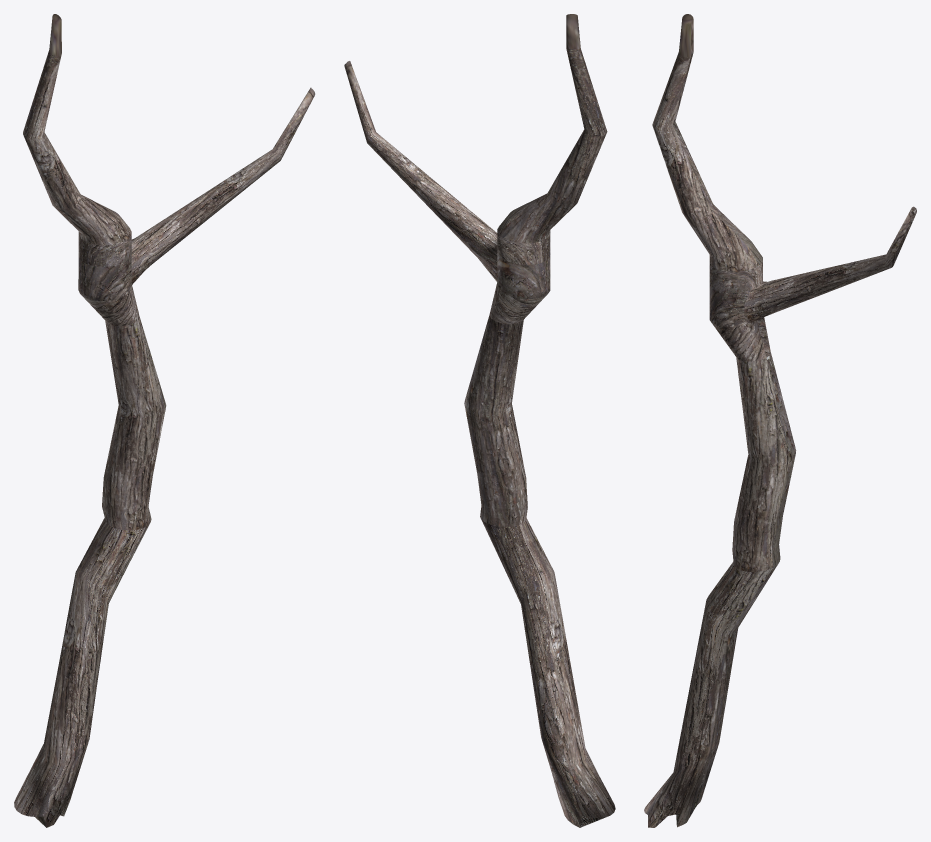
File: Stick.fbx
3 renders of one model, left to right at view 1: azimuth 30°, elevation 25°; view 2: azimuth 150°, elevation 25°; view 3: azimuth 330°, elevation 25°, orthographic.
Visible parts, largest first — view 1: Cylinder; view 2: Cylinder; view 3: Cylinder.
Boxes of the visible parts, x1,y1,x2,y2 form: Cylinder: [14, 14, 315, 827]; Cylinder: [344, 14, 615, 827]; Cylinder: [644, 14, 916, 827].
Bounding box in the file's own units: 28.7 × 77.83 × 5.87.
